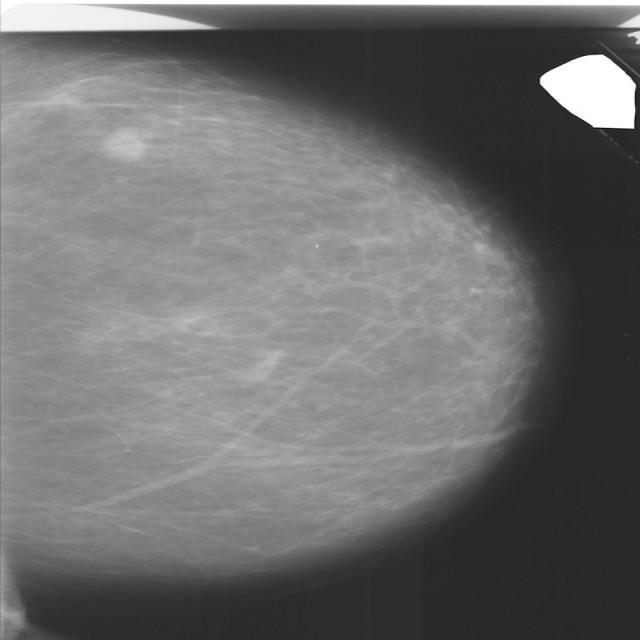tumour: (100, 125, 147, 160)
